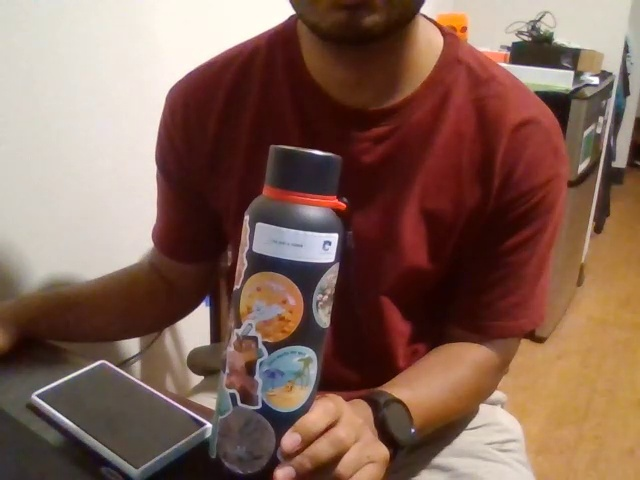bottle: (200, 152, 311, 374)
